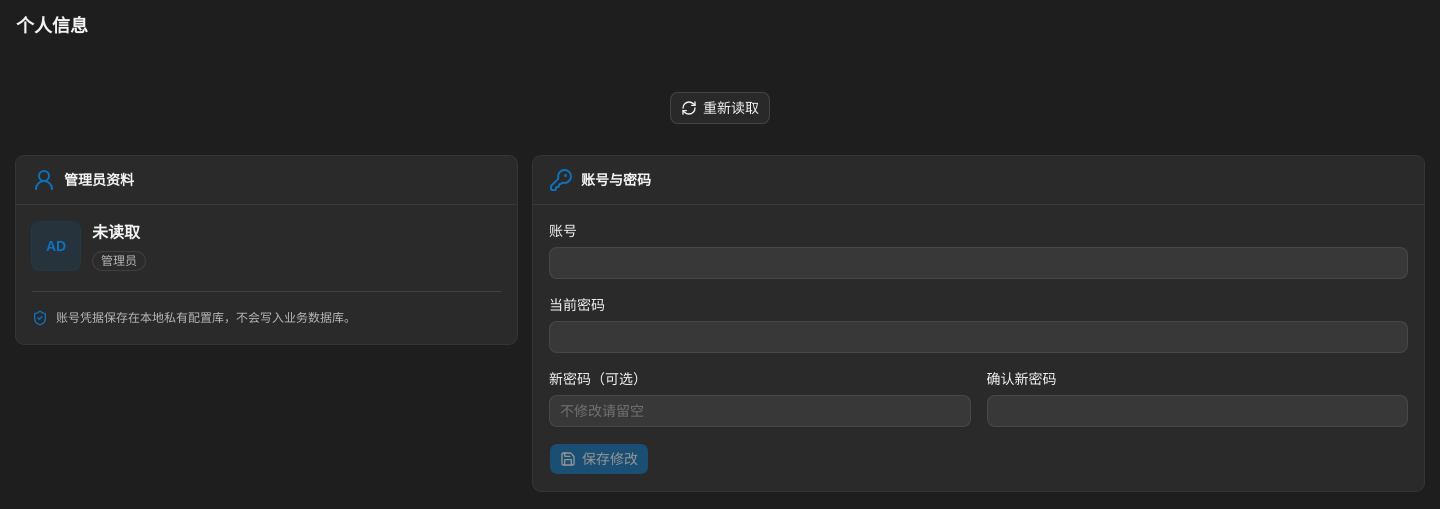
Test: 会话首次读取失败时禁用保存并允许重新读取
Expected: the button "保存修改" is disabled, [549,443,649,475]
Click the button "重新读取".
click(720, 108)  # box [670,92,770,124]
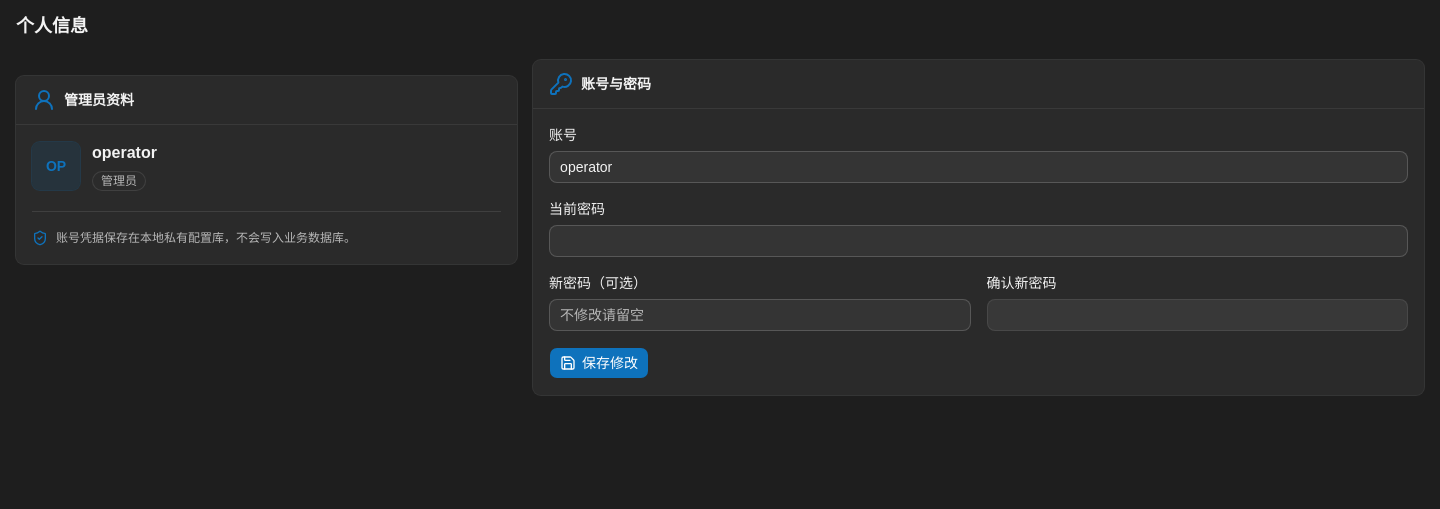
Now the field labelled "账号" holds "operator", box [549,151,1408,183]
Now the button "保存修改" is enabled, box [549,347,649,379]
